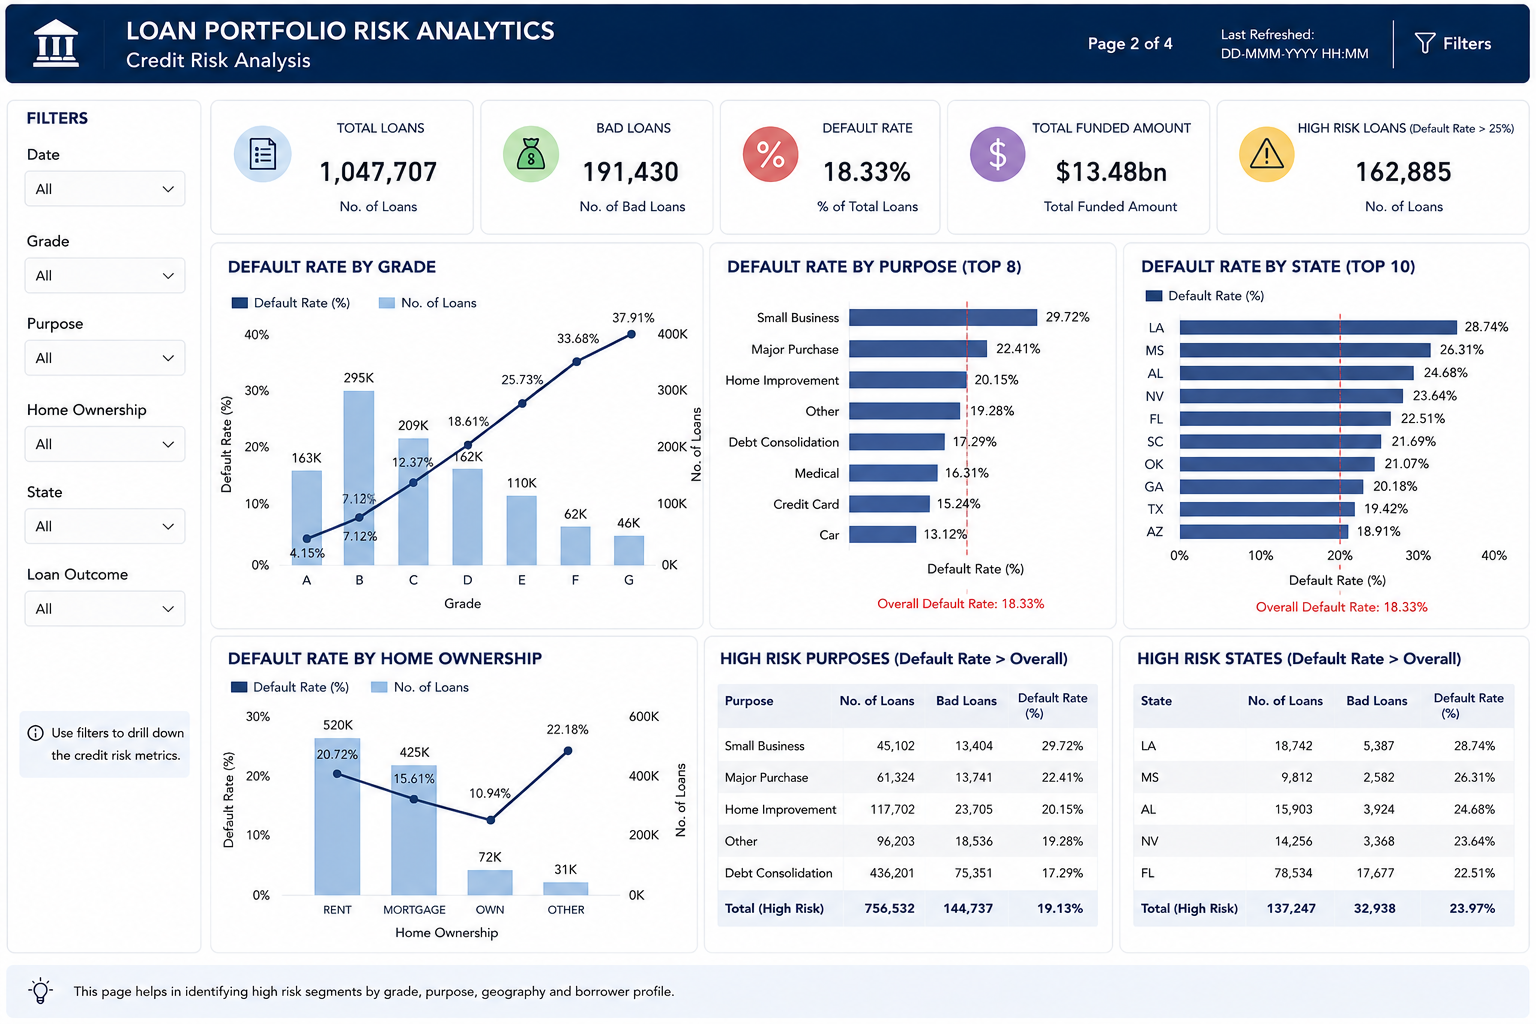

The dashboard page shown, as its layout file describes it:
{"tool":"powerbi","page":{"name":"Credit Risk Analysis","canvas":[1920,1080],"ordinal":1},"visuals":[{"type":"image","box":[128,0,1620,1080],"z":0},{"type":"slicer","fields":{"Values":["dim_date.loan_year"]},"box":[156,186,170,44],"z":1000},{"type":"slicer","fields":{"Values":["dim_grade.grade"]},"box":[154,266,170,38],"z":2000},{"type":"slicer","fields":{"Values":["dim_purpose.purpose"]},"box":[152,358,170,40],"z":3000},{"type":"slicer","fields":{"Values":["dim_geography.addr_state"]},"box":[152,540,170,42],"z":4000},{"type":"slicer","fields":{"Values":["vw_loans.loan_status"]},"box":[152,616,170,42],"z":5000},{"type":"slicer","fields":{"Values":["vw_loans.home_ownership"]},"box":[152,440,170,42],"z":6000},{"type":"cardVisual","fields":{"Data":["Sum(vw_loans.funded_amnt)"]},"box":[1212,110,188,120],"z":9000},{"type":"cardVisual","fields":{"Data":["CountNonNull(vw_loans.total_acc)"]},"box":[450,110,182,120],"z":10000},{"type":"actionButton","box":[1626,18,104,54],"z":15000}]}

Visuals, with their boxes on the page's 1920x1080 design canvas (x1, y1, x2, y2). These are canvas units, not pixel positions in the 1536x1024 screenshot, which may show the page scaled, cropped or inside an application window:
image: bbox(128, 0, 1748, 1080)
slicer - dim_date.loan_year: bbox(156, 186, 326, 230)
slicer - dim_grade.grade: bbox(154, 266, 324, 304)
slicer - dim_purpose.purpose: bbox(152, 358, 322, 398)
slicer - dim_geography.addr_state: bbox(152, 540, 322, 582)
slicer - vw_loans.loan_status: bbox(152, 616, 322, 658)
slicer - vw_loans.home_ownership: bbox(152, 440, 322, 482)
cardVisual - Sum(vw_loans.funded_amnt): bbox(1212, 110, 1400, 230)
cardVisual - CountNonNull(vw_loans.total_acc): bbox(450, 110, 632, 230)
actionButton: bbox(1626, 18, 1730, 72)
